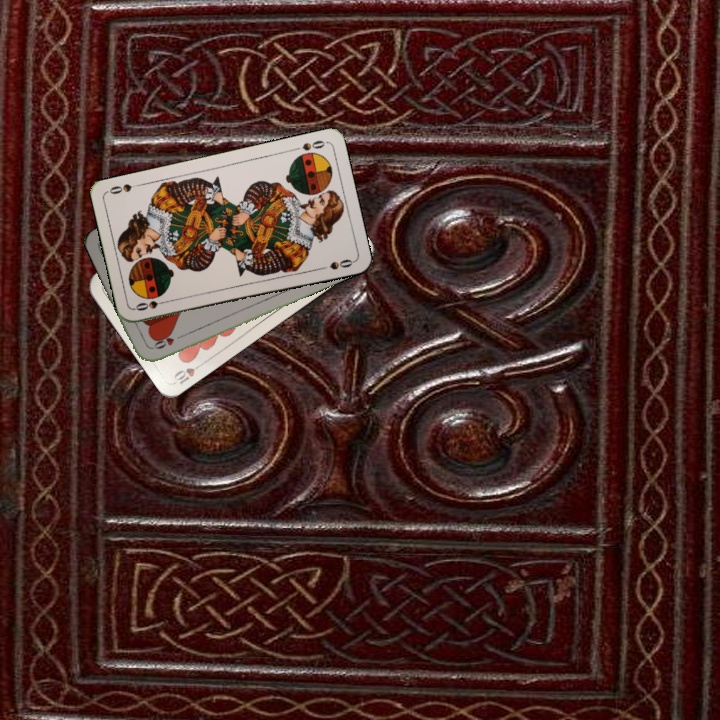H10: (170, 358, 207, 387)
HO: (147, 331, 186, 352)
SO: (131, 296, 171, 313), (298, 136, 328, 153)
